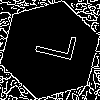L: (25, 25, 77, 63)
